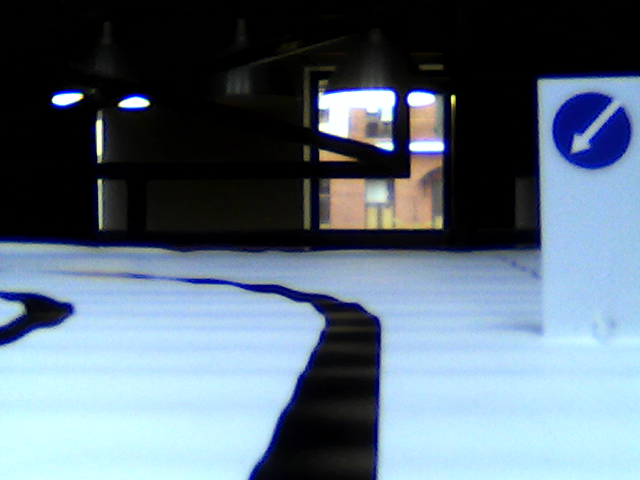prep: (550, 89, 633, 175)
